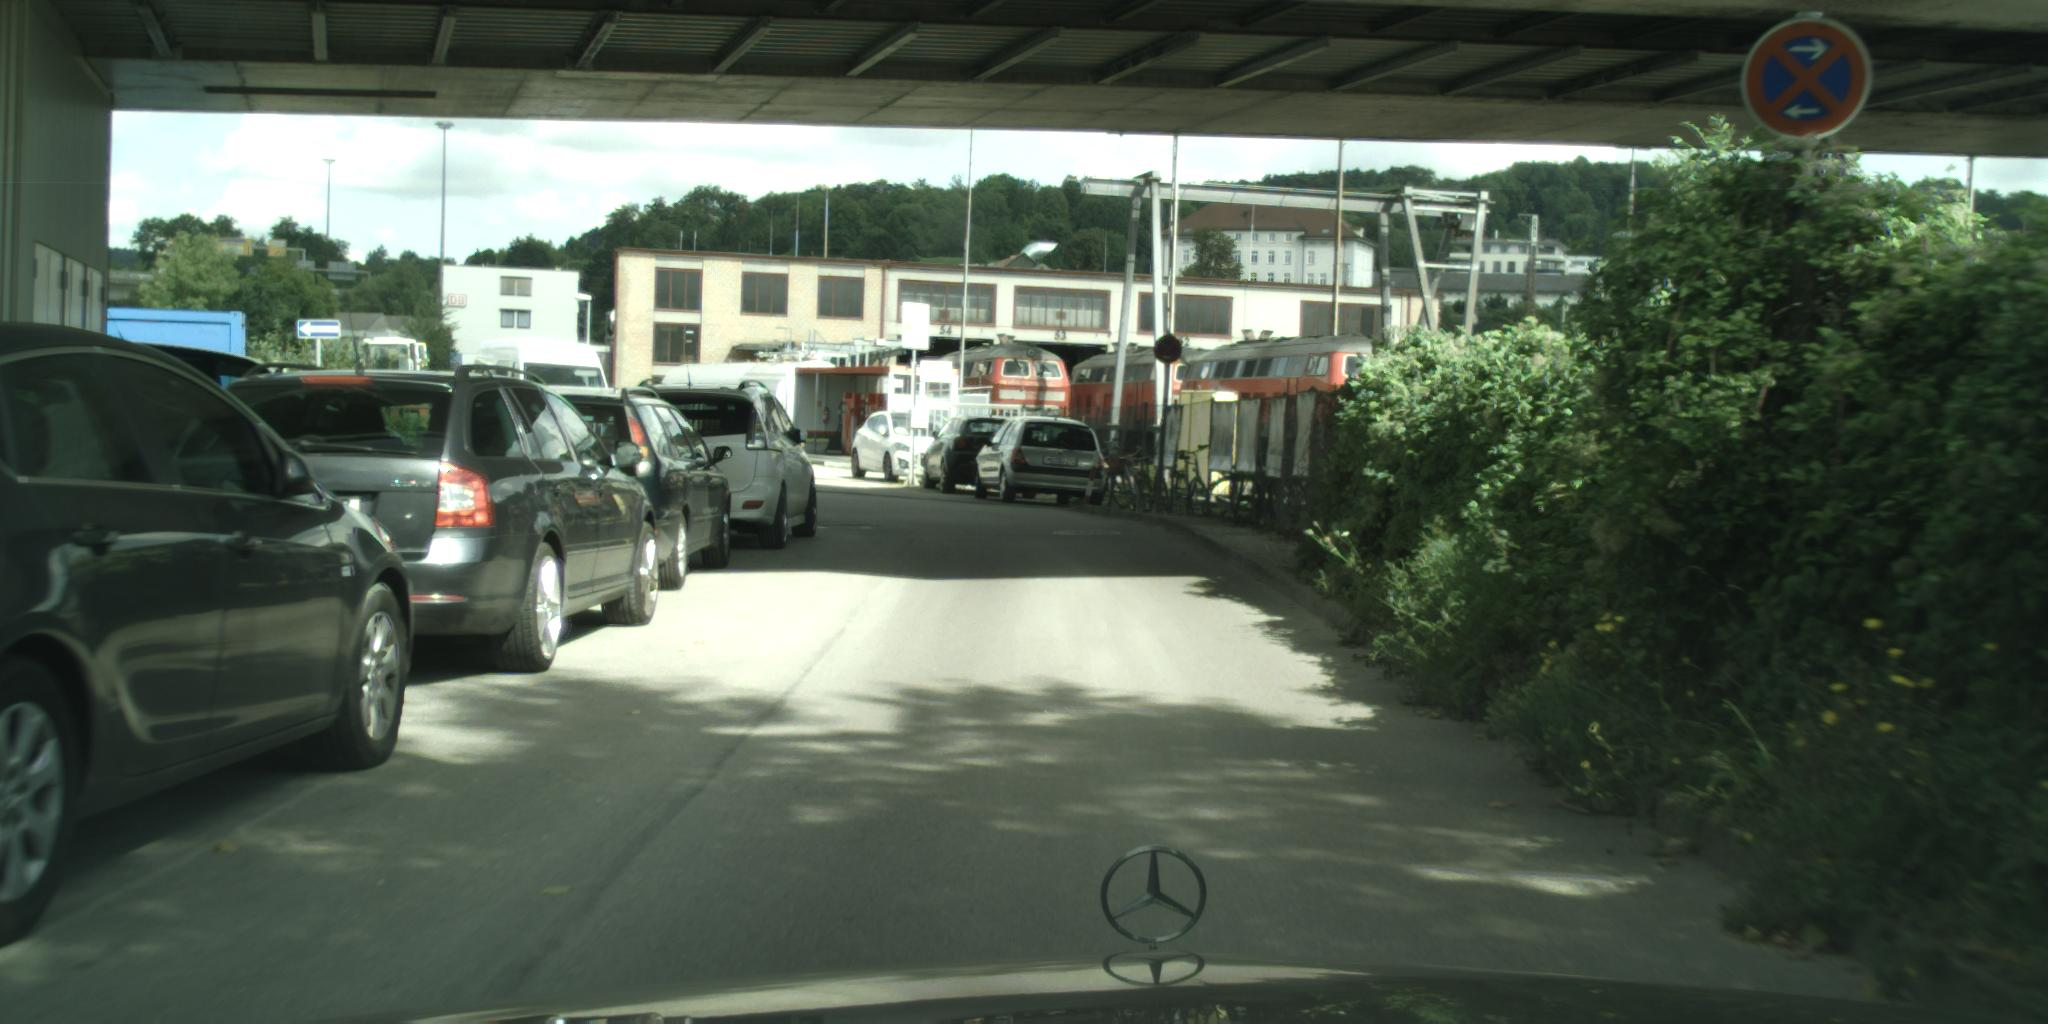car: (1, 323, 414, 950), (212, 364, 660, 673), (522, 384, 735, 593), (632, 380, 820, 550), (121, 344, 290, 419), (974, 415, 1105, 508), (460, 340, 613, 415), (923, 417, 1011, 495), (852, 411, 931, 485)
train: (1068, 333, 1394, 432), (935, 344, 1075, 438)
